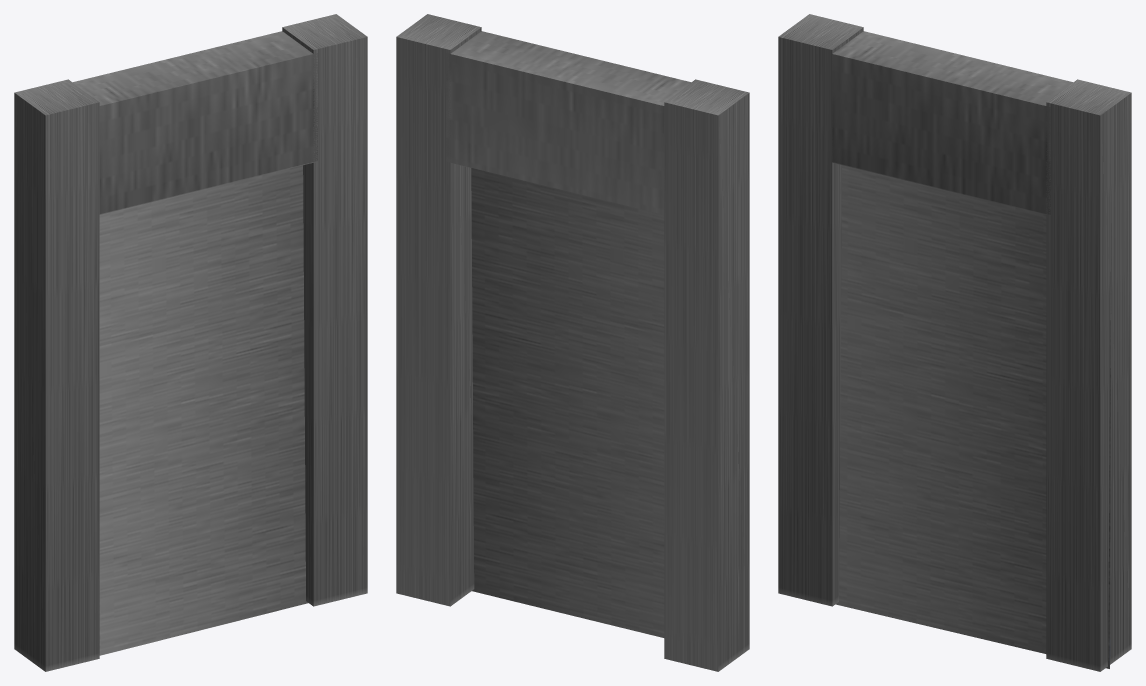
The model's file is ElevatorLvl1.fbx.
The picture shows the model from 3 angles, left to right: view 1: azimuth 30°, elevation 25°; view 2: azimuth 150°, elevation 25°; view 3: azimuth 330°, elevation 25°; orthographic projection.
Visible parts, largest first — view 1: pCube17; view 2: pCube17; view 3: pCube17.
Boxes of the visible parts, x1,y1,x2,y2 form: pCube17: (14,14,367,671); pCube17: (396,14,749,671); pCube17: (778,14,1131,671).
Bounding box in the file's own units: 5.98 × 9.88 × 1.
